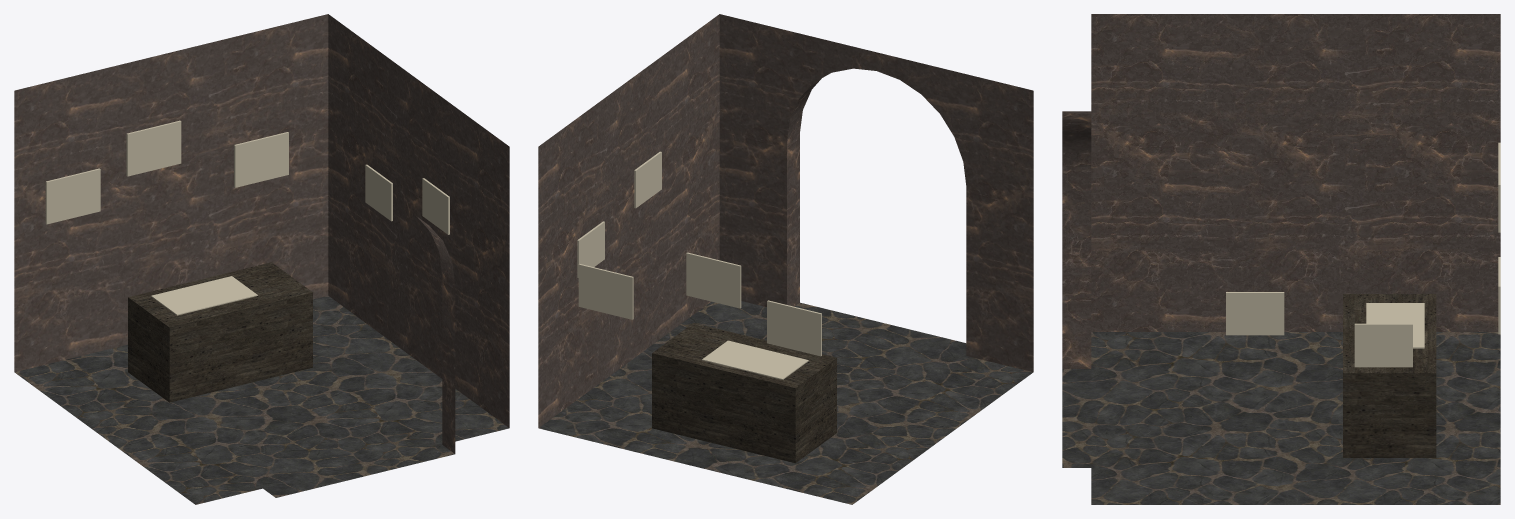
File: survey-station.035e24eb.gltf
3 views of the same model, side by side, from view 1: azimuth 30°, elevation 25°; view 2: azimuth 150°, elevation 25°; view 3: azimuth 270°, elevation 25° (orthographic). The views are drawn at different scales.
Parts seen in each view (by area): view 1: survey-station-mesh, survey-station-props; view 2: survey-station-mesh, survey-station-props; view 3: survey-station-mesh, survey-station-props.
Boxes of the visible parts, x1,y1,x2,y2 form: survey-station-mesh: (14, 14, 509, 504); survey-station-props: (45, 120, 449, 402); survey-station-mesh: (538, 14, 1033, 504); survey-station-props: (577, 151, 836, 463); survey-station-mesh: (1062, 14, 1500, 504); survey-station-props: (1226, 142, 1500, 457).
Bounding box in the file's own units: 3.5 × 3 × 3.75.
4 materials, 3 textured.
